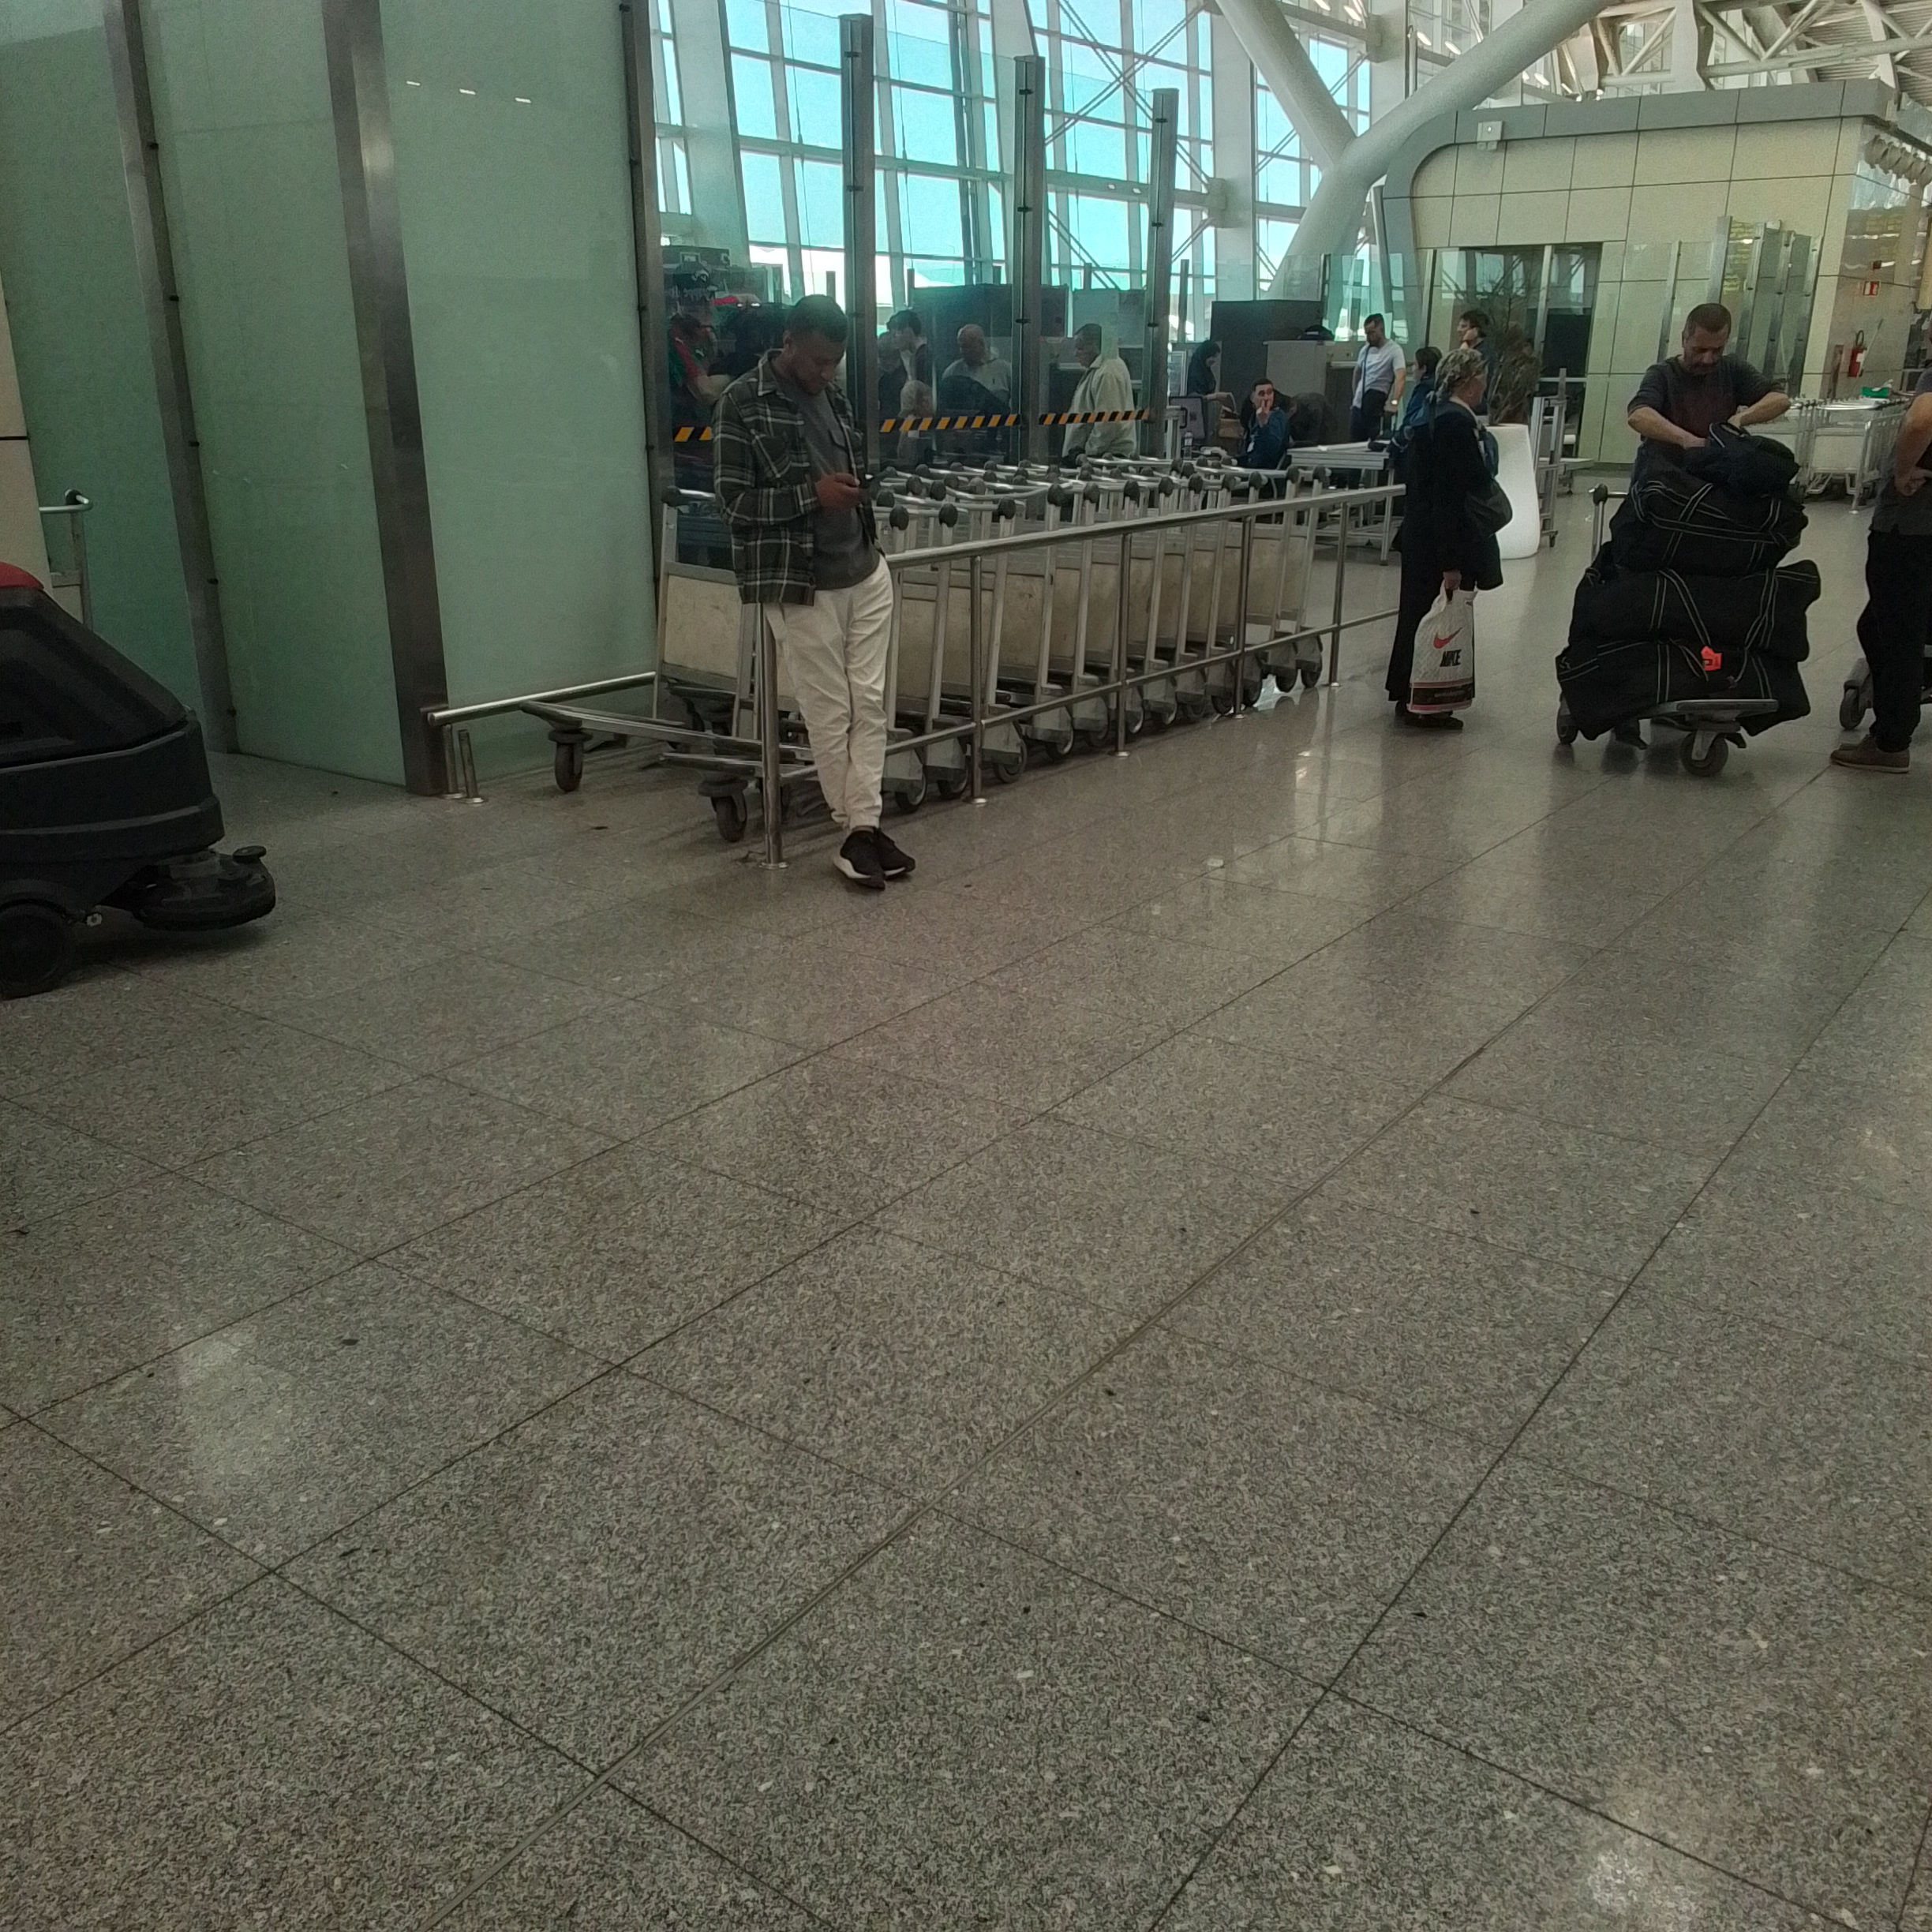airport-trolley: (561, 488, 778, 796), (955, 469, 1046, 798), (1106, 455, 1198, 743), (996, 469, 1079, 773), (1058, 467, 1129, 766), (899, 490, 964, 812), (1192, 458, 1267, 732), (1265, 460, 1325, 702)
